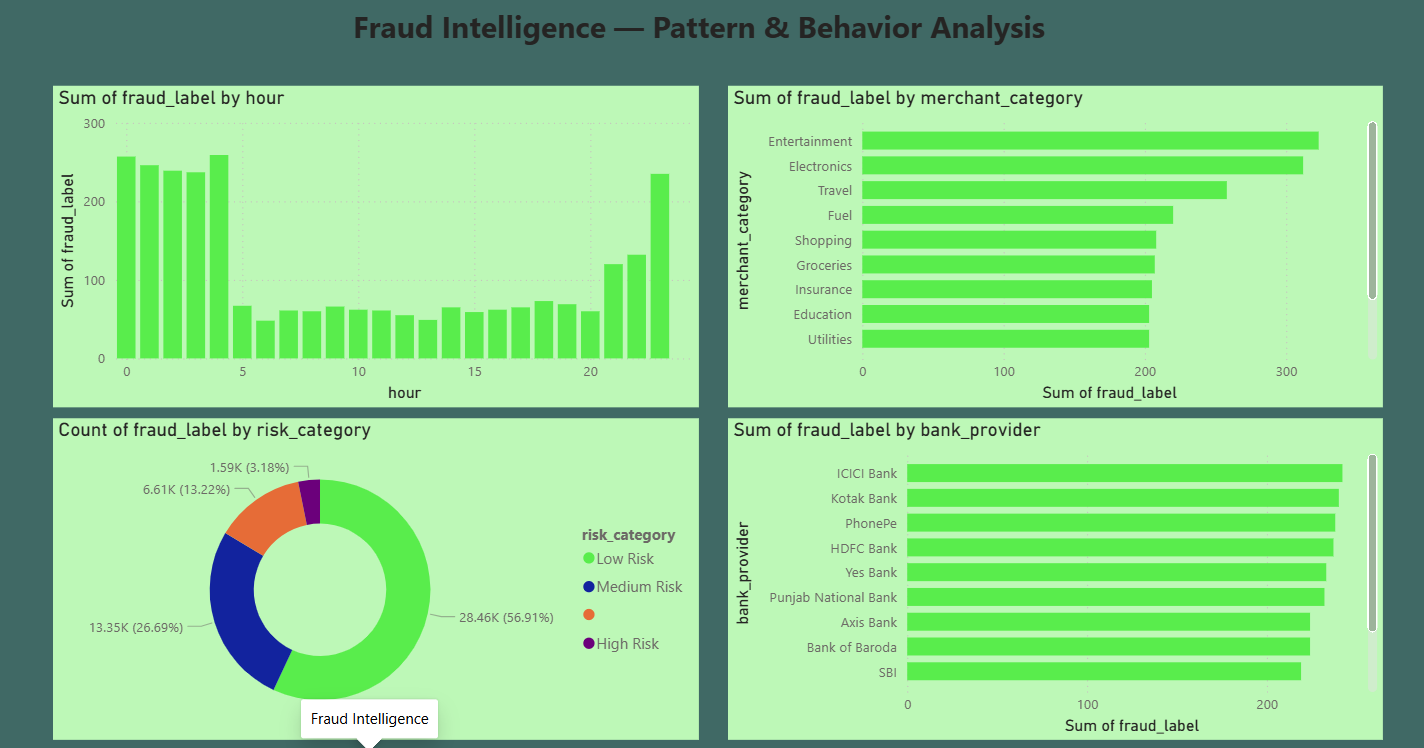

What the dashboard file says about the page in this screenshot:
{"tool":"powerbi","page":{"name":"Fraud Intelligence","canvas":[1280,720],"ordinal":1},"visuals":[{"type":"textbox","box":[199,48,859,45.3],"z":0},{"type":"clusteredColumnChart","fields":{"Y":["Sum(india_payments_clean.fraud_label)"],"Category":["india_payments_clean.hour"]},"box":[53.5,123.5,575,286.8],"z":1000},{"type":"clusteredBarChart","fields":{"Category":["india_payments_clean.merchant_category"],"Y":["Sum(india_payments_clean.fraud_label)"]},"box":[654.5,123.5,583.2,286.8],"z":2000},{"type":"donutChart","fields":{"Category":["india_payments_clean.risk_category"],"Y":["CountNonNull(india_payments_clean.fraud_label)"]},"box":[53.5,419.9,575,286.8],"z":3000},{"type":"clusteredBarChart","fields":{"Category":["india_payments_clean.bank_provider"],"Y":["Sum(india_payments_clean.fraud_label)"]},"box":[654.5,419.9,583.2,286.8],"z":4000}]}

Visuals, with their boxes in screenshot pixels (x1, y1, x2, y2):
textbox: bbox=[223, 5, 1170, 55]
clusteredColumnChart - Sum(india_payments_clean.fraud_label) x india_payments_clean.hour: bbox=[63, 88, 697, 404]
clusteredBarChart - india_payments_clean.merchant_category x Sum(india_payments_clean.fraud_label): bbox=[726, 88, 1369, 404]
donutChart - india_payments_clean.risk_category x CountNonNull(india_payments_clean.fraud_label): bbox=[63, 415, 697, 731]
clusteredBarChart - india_payments_clean.bank_provider x Sum(india_payments_clean.fraud_label): bbox=[726, 415, 1369, 731]
